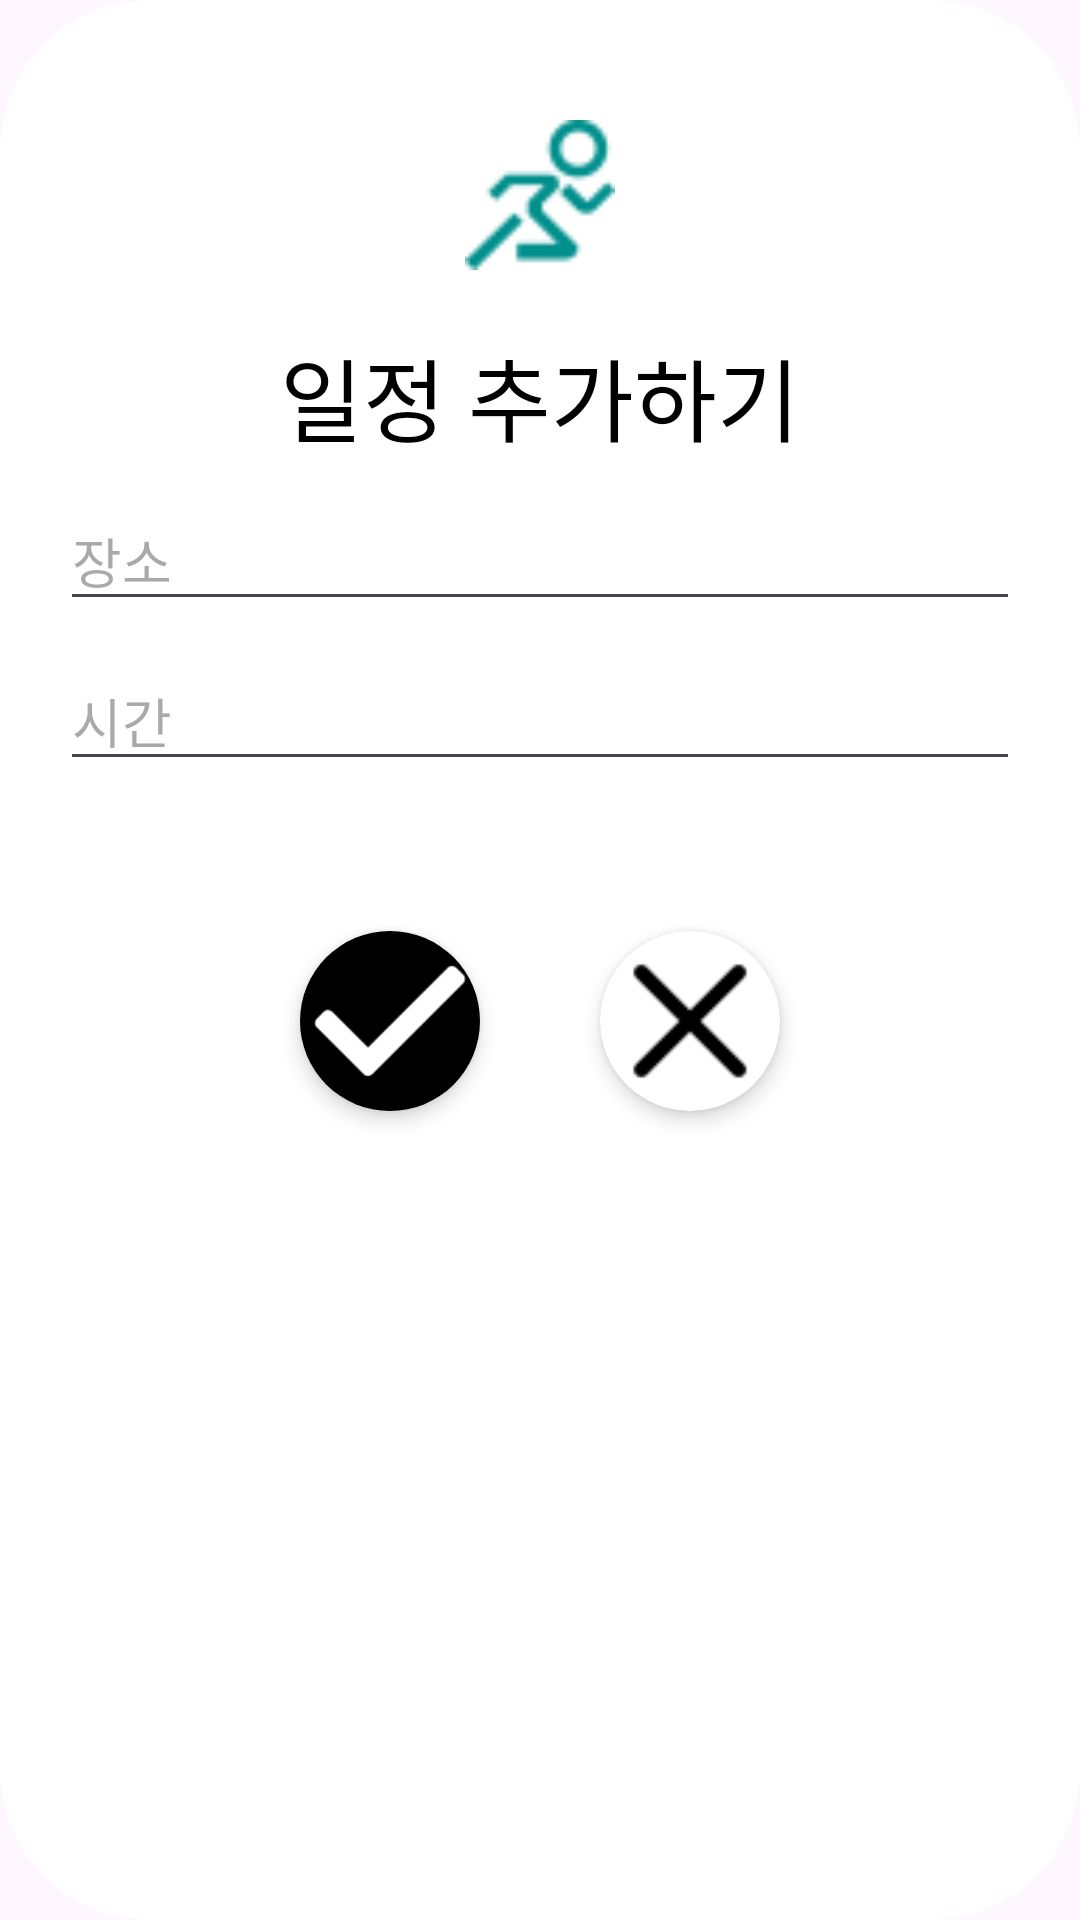

Locate icon controls on the screen. Image size 1080*1920, boxes as detection(x1, y1, x2, y2).
check: detection(300, 931, 480, 1111)
close: detection(601, 964, 780, 1111)
